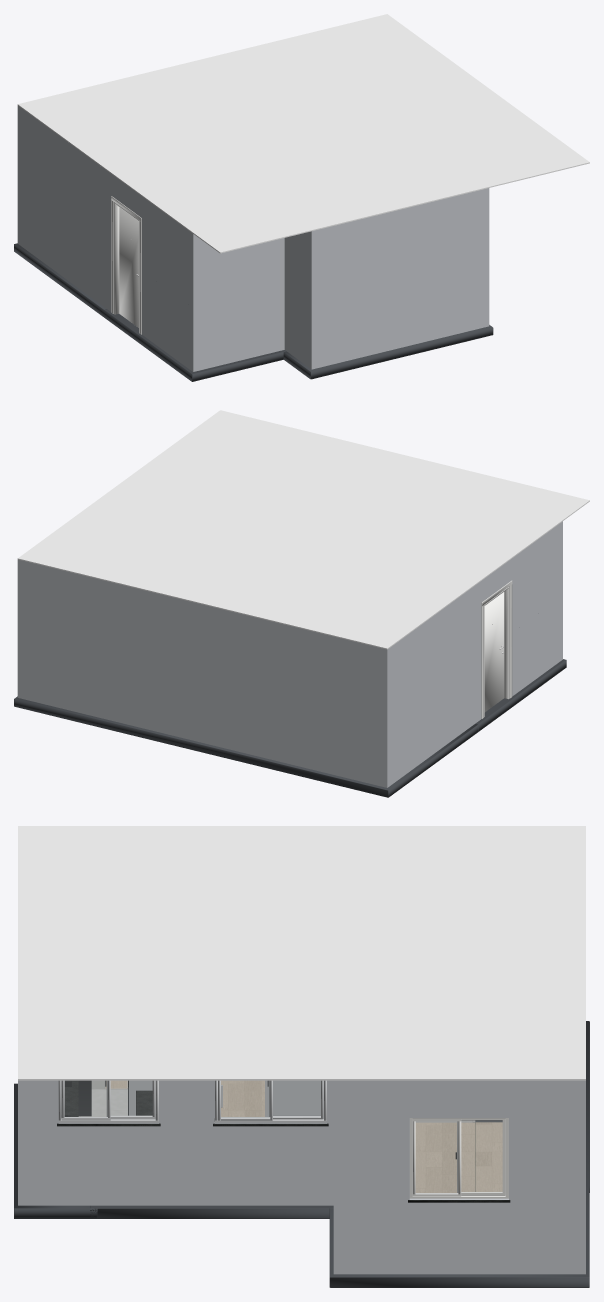
Rendered from apartamento.glb.
3 views of the same model, one above another, from view 1: azimuth 30°, elevation 25°; view 2: azimuth 150°, elevation 25°; view 3: azimuth 270°, elevation 25° (orthographic). The views are drawn at different scales.
Visible parts, largest first — view 1: Forro_Gesso, Parede_17, Parede_02, ParedeCorte_02, ParedeCorte_14, Parede_03, Parede_18, Parede_19, ParedeCorte_03, ParedeCorte_13, Base_Laje_03, Porta_Entrada_Folha (+6 smaller); view 2: Forro_Gesso, Parede, Parede_02, ParedeCorte, Base_Laje, Parede_03, ParedeCorte_02, ParedeCorte_03, Porta_Entrada_Folha, Base_Laje_02, Parede_24, Parede_20 (+3 smaller); view 3: Forro_Gesso, Parede_13, Parede_15, Parede_07, ParedeCorte_05, Parede_05, Parede_06, Piso_Laminado_Quarto, ParedeCorte_04, Base_Laje, Parede_08, ParedeCorte_10 (+18 smaller).
Part boxes in pixels (x1=…): Forro_Gesso: x1=17, y1=14, x2=589, y2=253; Parede_17: x1=319, y1=189, x2=482, y2=367; Parede_02: x1=17, y1=105, x2=113, y2=311; ParedeCorte_02: x1=17, y1=180, x2=111, y2=311; ParedeCorte_14: x1=200, y1=286, x2=284, y2=370; Parede_03: x1=140, y1=195, x2=199, y2=308; Parede_18: x1=200, y1=238, x2=284, y2=306; Parede_19: x1=284, y1=229, x2=319, y2=369; ParedeCorte_03: x1=142, y1=271, x2=199, y2=371; ParedeCorte_13: x1=319, y1=266, x2=482, y2=365; Base_Laje_03: x1=283, y1=325, x2=493, y2=379; Porta_Entrada_Folha: x1=119, y1=207, x2=138, y2=327; Forro_Gesso: x1=17, y1=410, x2=589, y2=649; Parede: x1=17, y1=559, x2=380, y2=786; Parede_02: x1=380, y1=579, x2=483, y2=787; ParedeCorte: x1=17, y1=635, x2=380, y2=783; Base_Laje: x1=14, y1=696, x2=478, y2=797; Parede_03: x1=509, y1=521, x2=562, y2=632; ParedeCorte_02: x1=380, y1=659, x2=481, y2=787; ParedeCorte_03: x1=512, y1=596, x2=562, y2=696; Porta_Entrada_Folha: x1=484, y1=592, x2=504, y2=712; Base_Laje_02: x1=475, y1=659, x2=566, y2=731; Parede_24: x1=240, y1=614, x2=246, y2=753; Parede_20: x1=341, y1=638, x2=350, y2=714; Forro_Gesso: x1=18, y1=826, x2=585, y2=1080; Parede_13: x1=214, y1=1122, x2=326, y2=1205; Parede_15: x1=58, y1=1122, x2=158, y2=1205; Parede_07: x1=409, y1=1198, x2=508, y2=1274; ParedeCorte_05: x1=333, y1=1185, x2=409, y2=1274; Parede_05: x1=509, y1=1080, x2=573, y2=1184; Parede_06: x1=346, y1=1080, x2=409, y2=1184; Piso_Laminado_Quarto: x1=415, y1=1122, x2=502, y2=1192; ParedeCorte_04: x1=509, y1=1185, x2=573, y2=1274; Base_Laje: x1=329, y1=1021, x2=589, y2=1287; Parede_08: x1=409, y1=1080, x2=508, y2=1117; ParedeCorte_10: x1=18, y1=1116, x2=58, y2=1205.
Size of the model in its own units: 7.37 by 2.78 by 7.
Materials: 41 (10 with a texture image).
